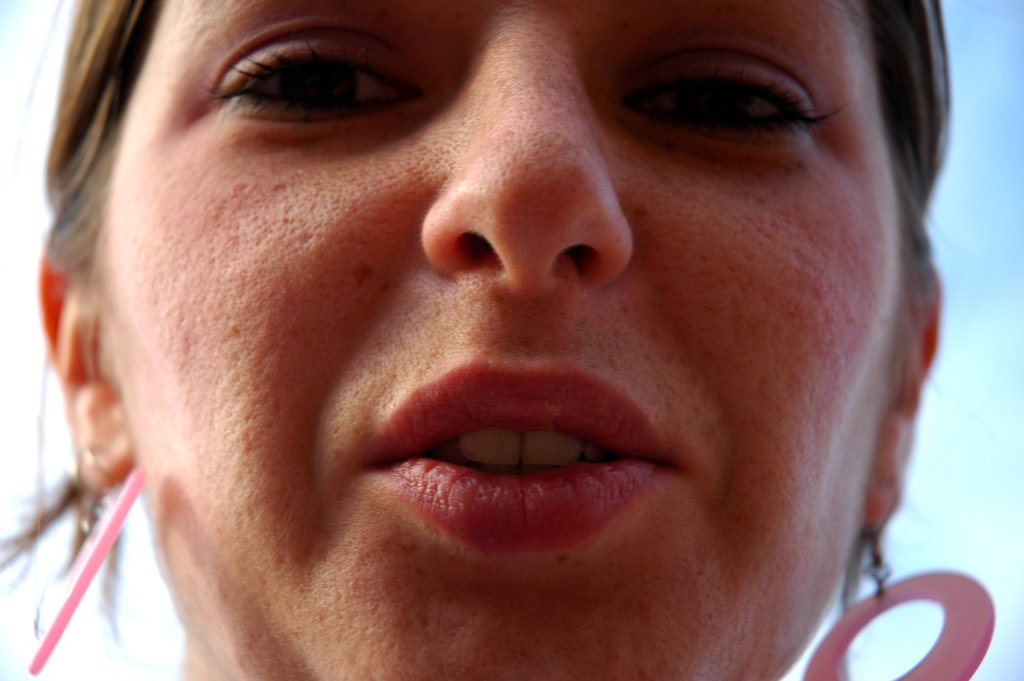Person: (0, 0, 963, 681)
